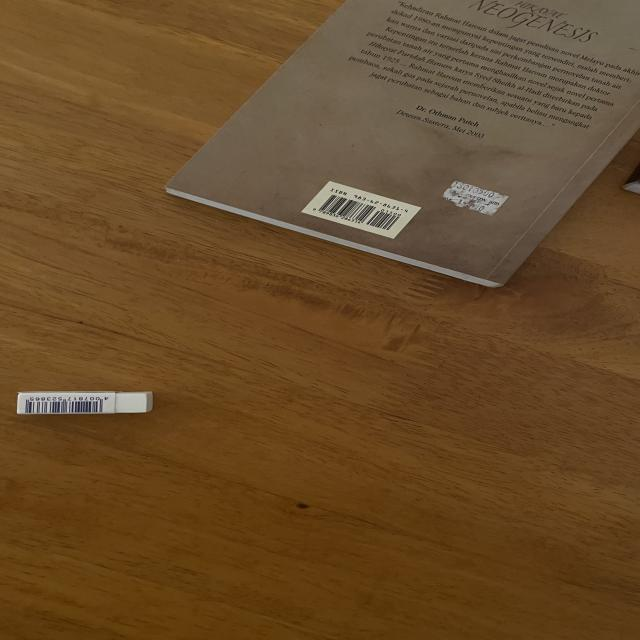eraser: (17, 391, 153, 415)
